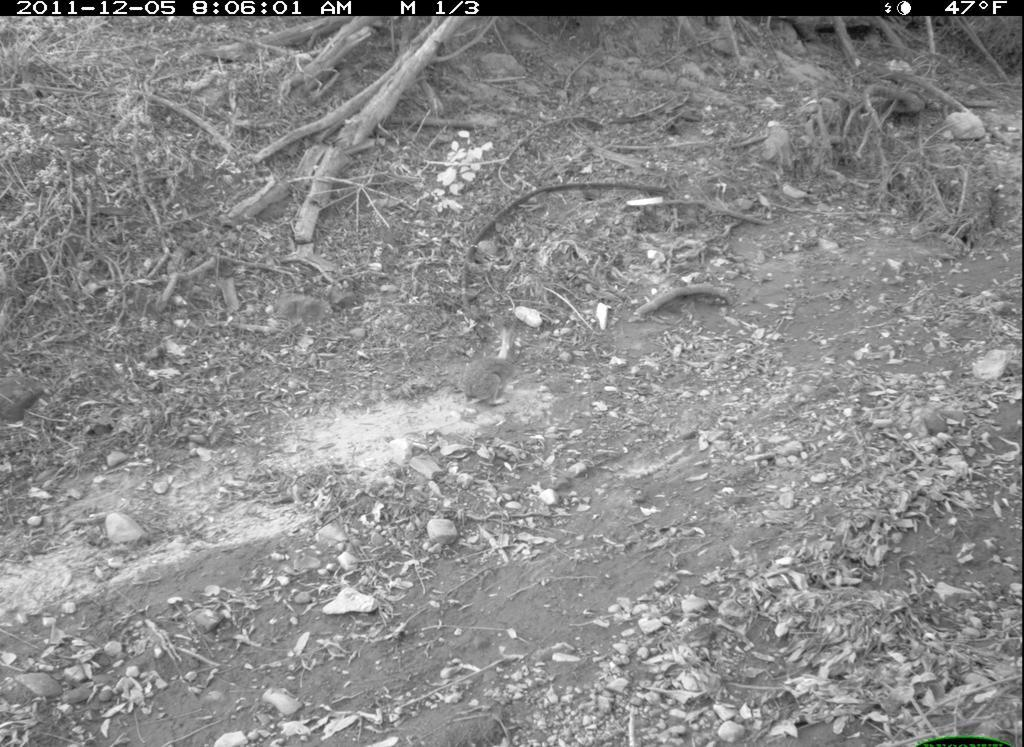rabbit: (454, 317, 534, 422)
